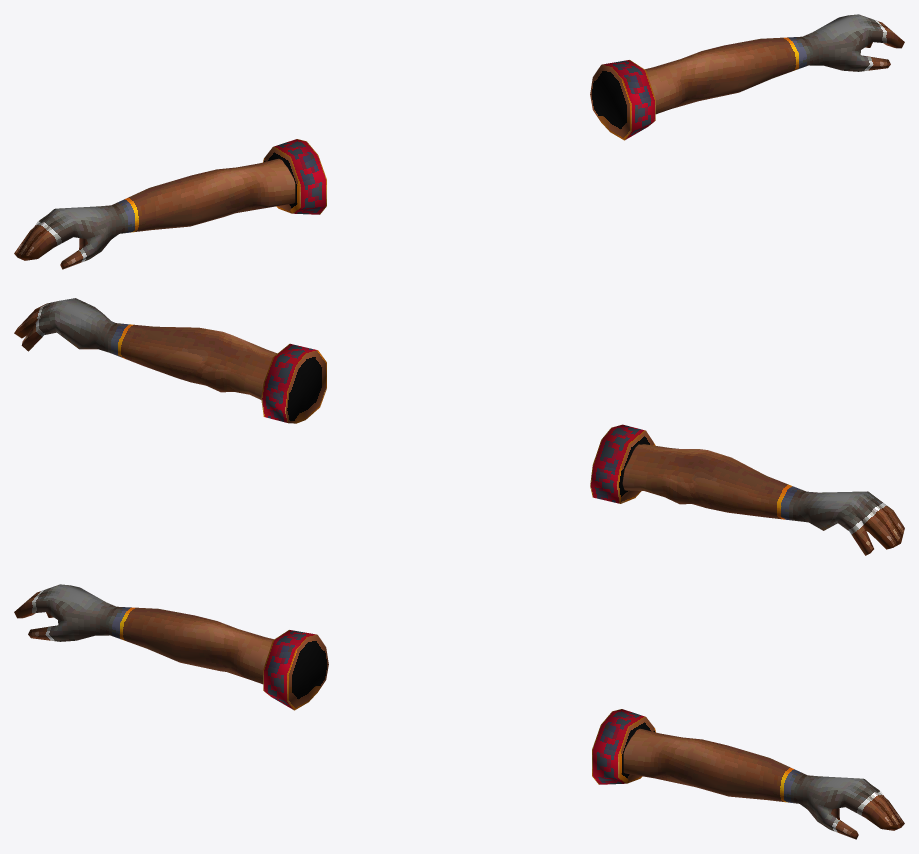
File: f_gauntlet013.obj
3 renders of one model, top to bottom at view 1: azimuth 30°, elevation 25°; view 2: azimuth 150°, elevation 25°; view 3: azimuth 330°, elevation 25°, orthographic.
Visible parts, largest first — view 1: mesh00; view 2: mesh00; view 3: mesh00.
Boxes of the visible parts, x1,y1,x2,y2 form: mesh00: [14, 14, 904, 269]; mesh00: [14, 298, 904, 555]; mesh00: [14, 584, 904, 839].
Bounding box in the file's own units: 173 × 12.34 × 13.99.
Materials: 1 (1 with a texture image).
